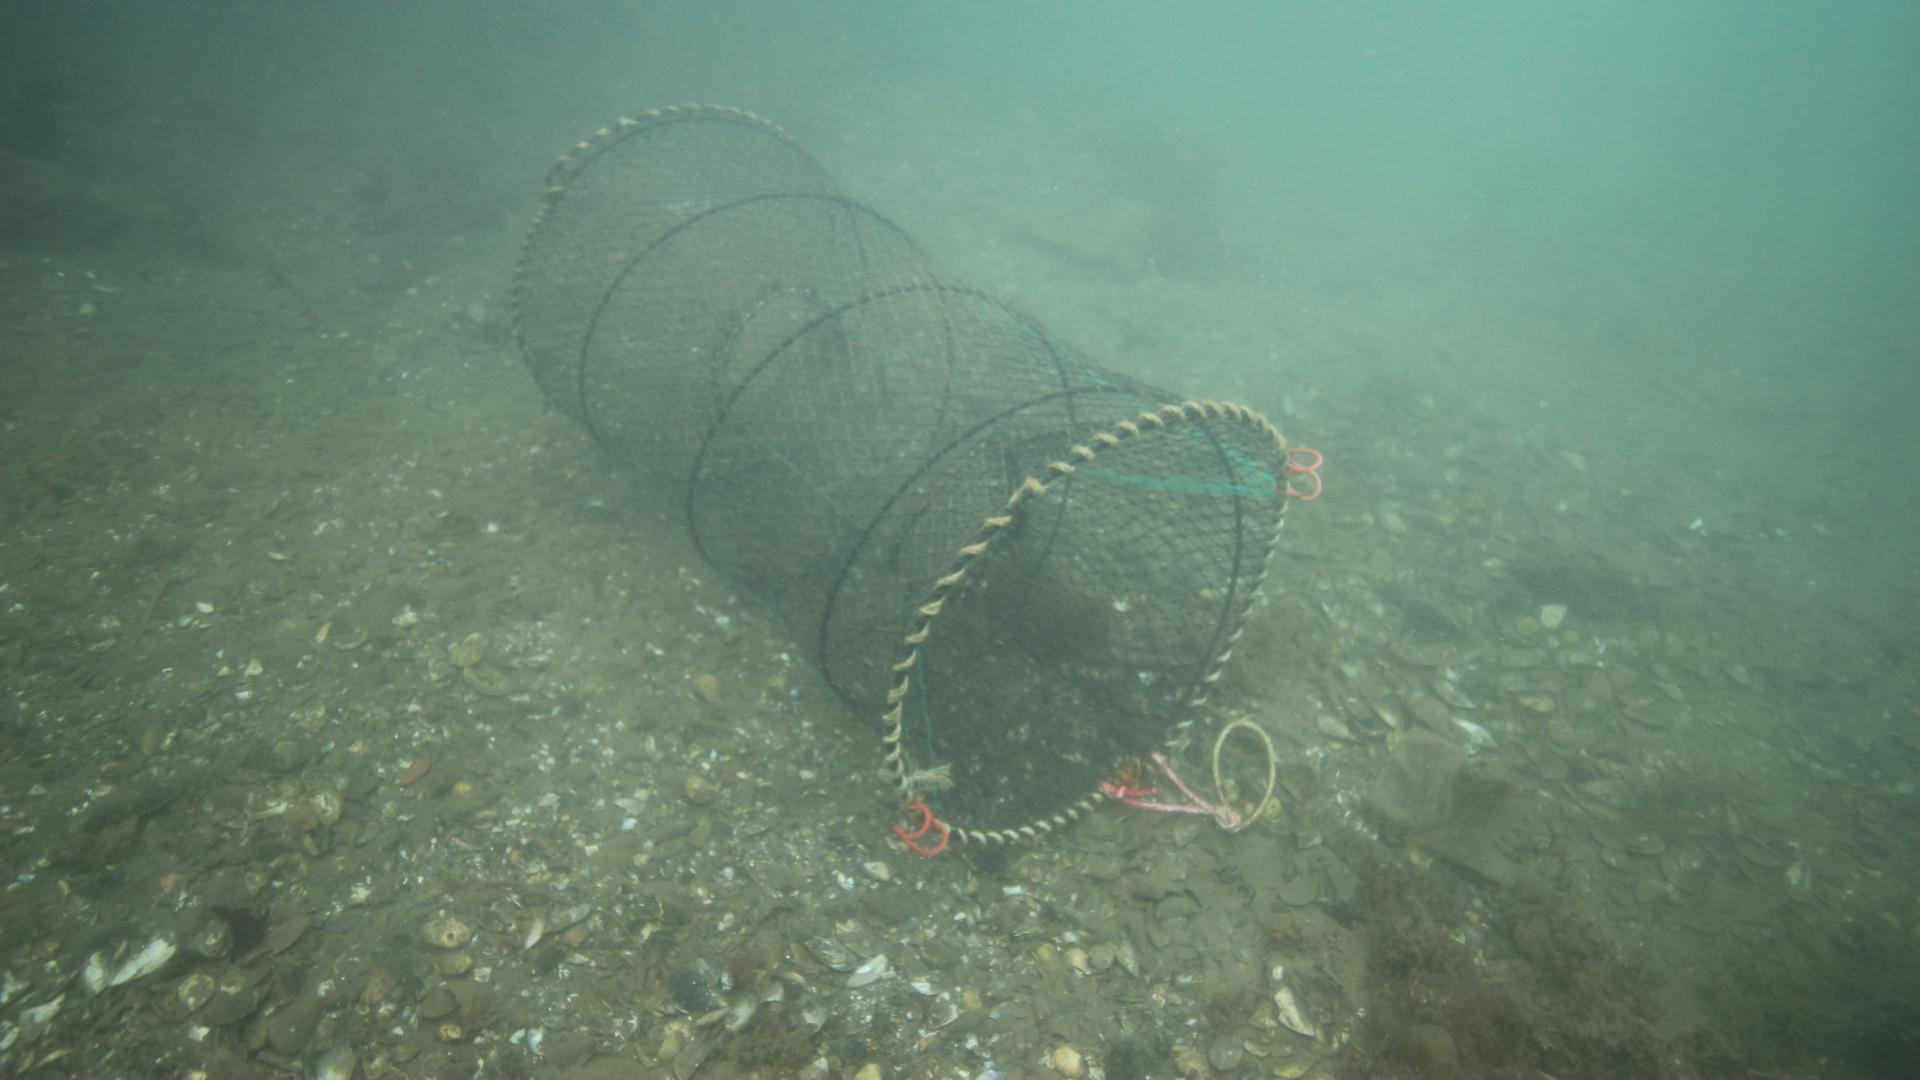bundle of ropes: (1093, 708, 1280, 836)
spring fish trap: (506, 100, 1294, 848)
